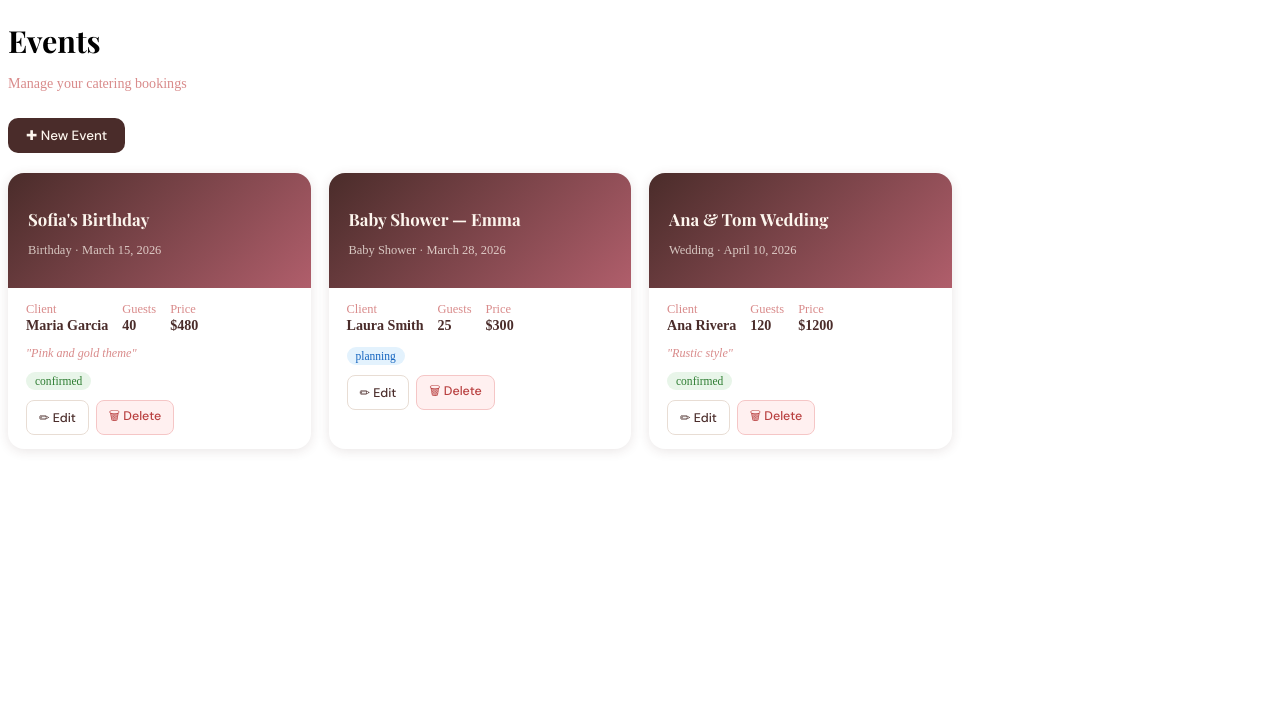
EventsPage › opens the modal when clicking New Event
The image size is (1280, 720).
Step 1. Click the button "✚ New Event" → (67,136), box [8,118,125,153]
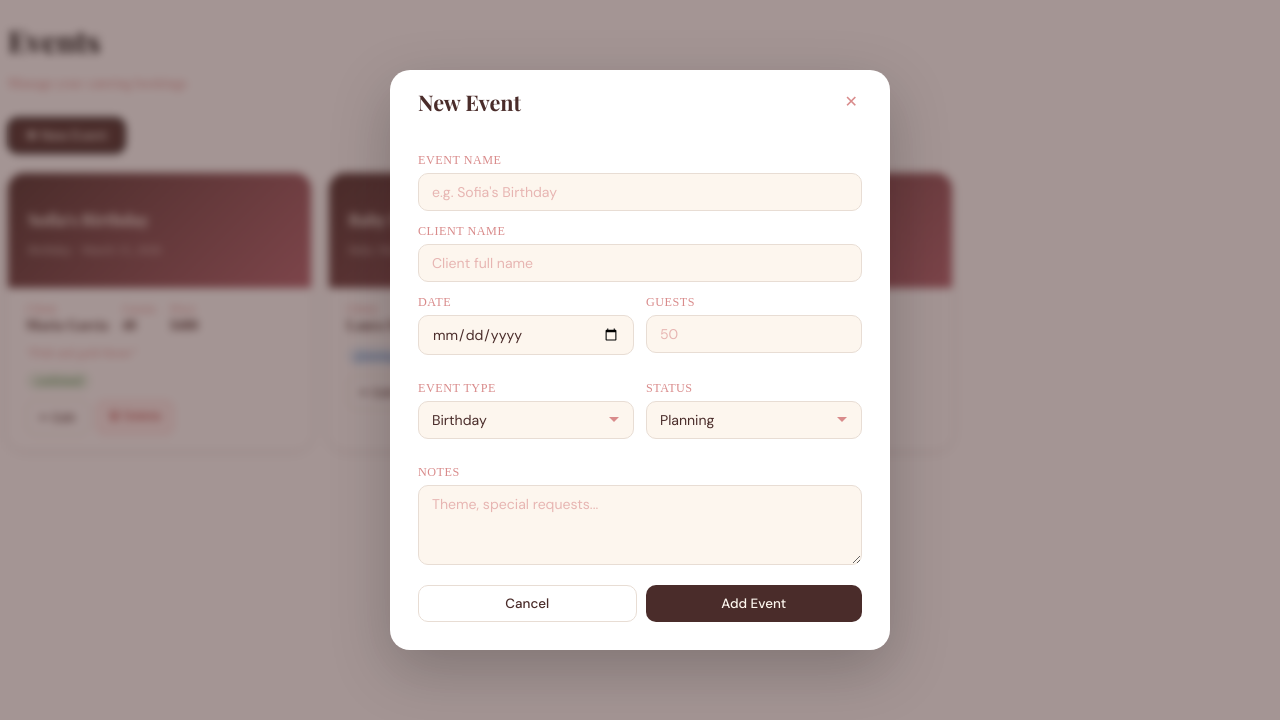
Expected: the dialog is shown, [390,70,890,650]
